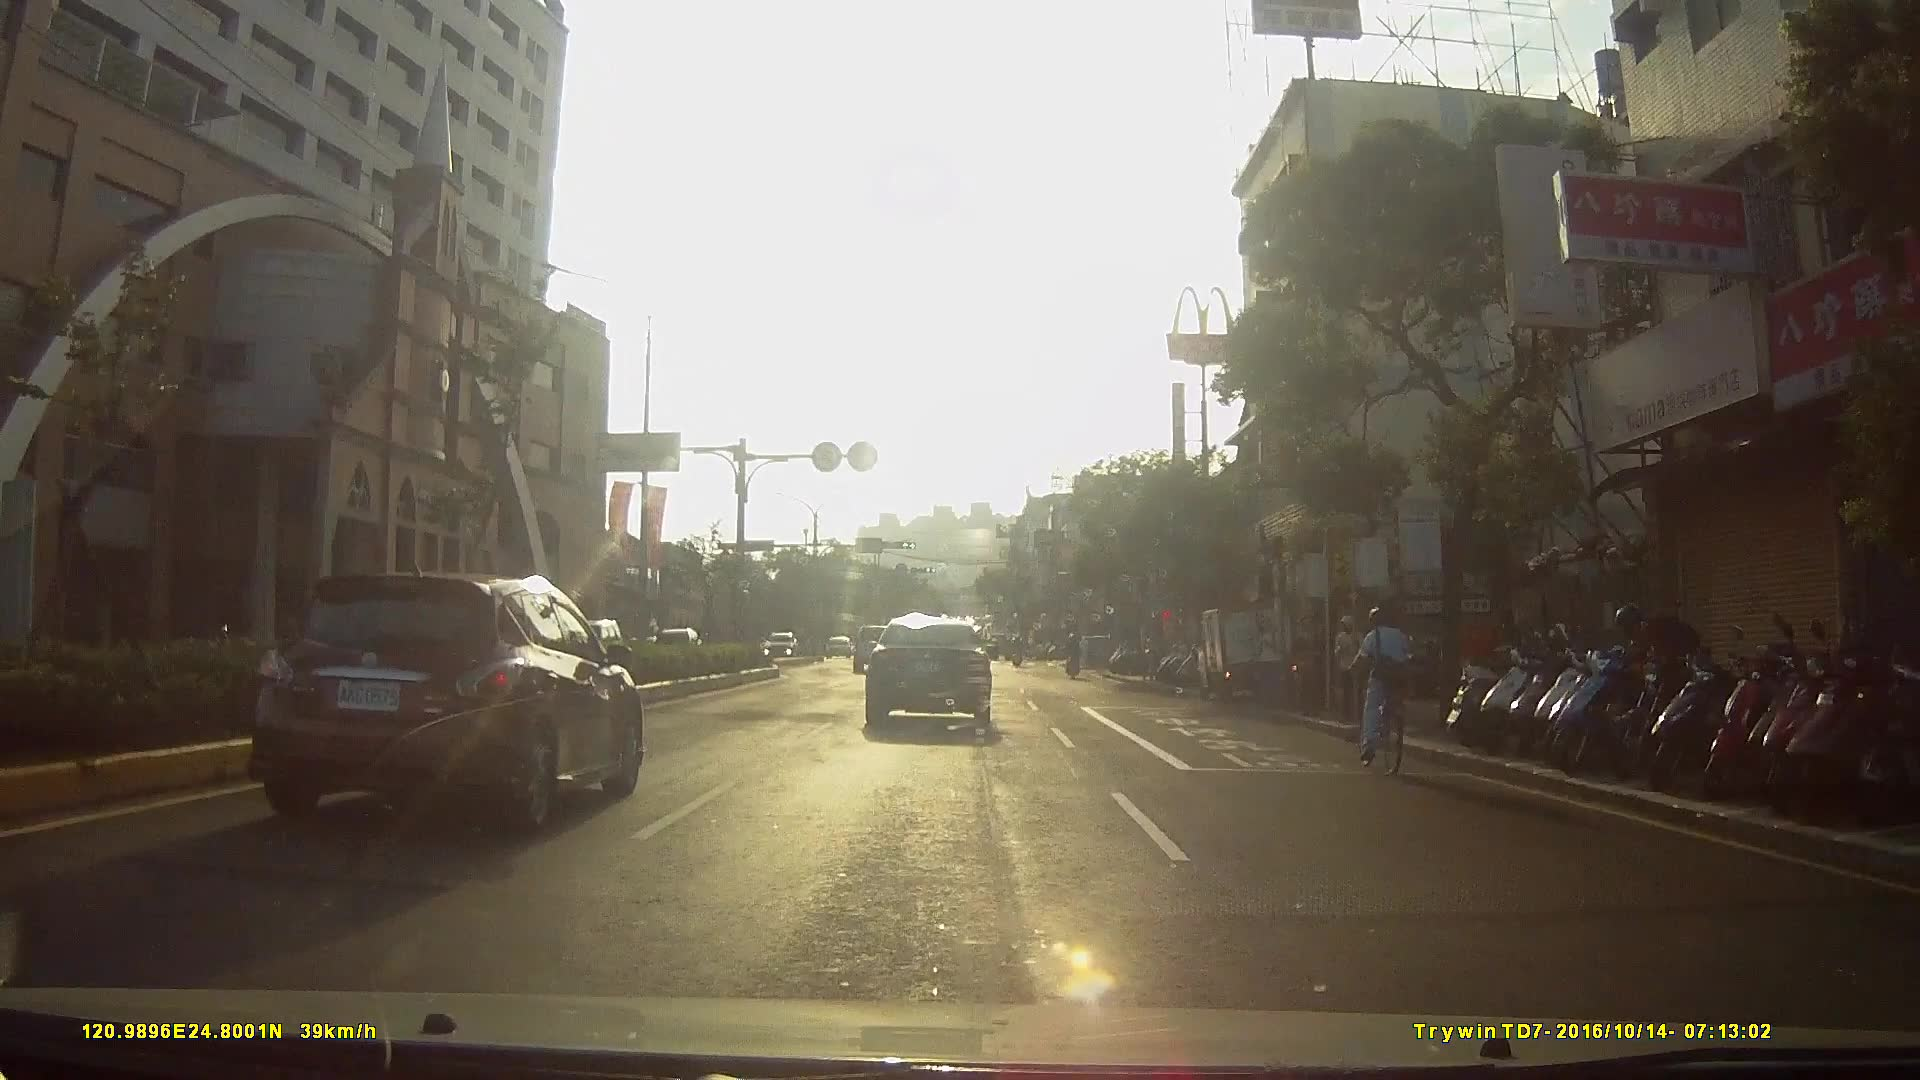pedestrian: (1334, 611, 1375, 720)
rider: (1341, 607, 1419, 775), (1065, 625, 1086, 676)
vehicle: (239, 563, 655, 830), (862, 609, 1006, 736), (1202, 596, 1309, 704), (849, 623, 908, 676), (760, 624, 802, 655), (819, 633, 847, 659)
